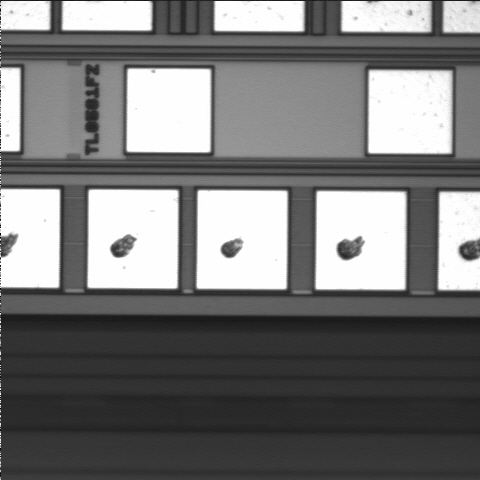pad: (197, 190, 287, 289), (316, 191, 406, 290), (88, 190, 178, 288), (127, 69, 211, 152), (368, 70, 451, 153)
